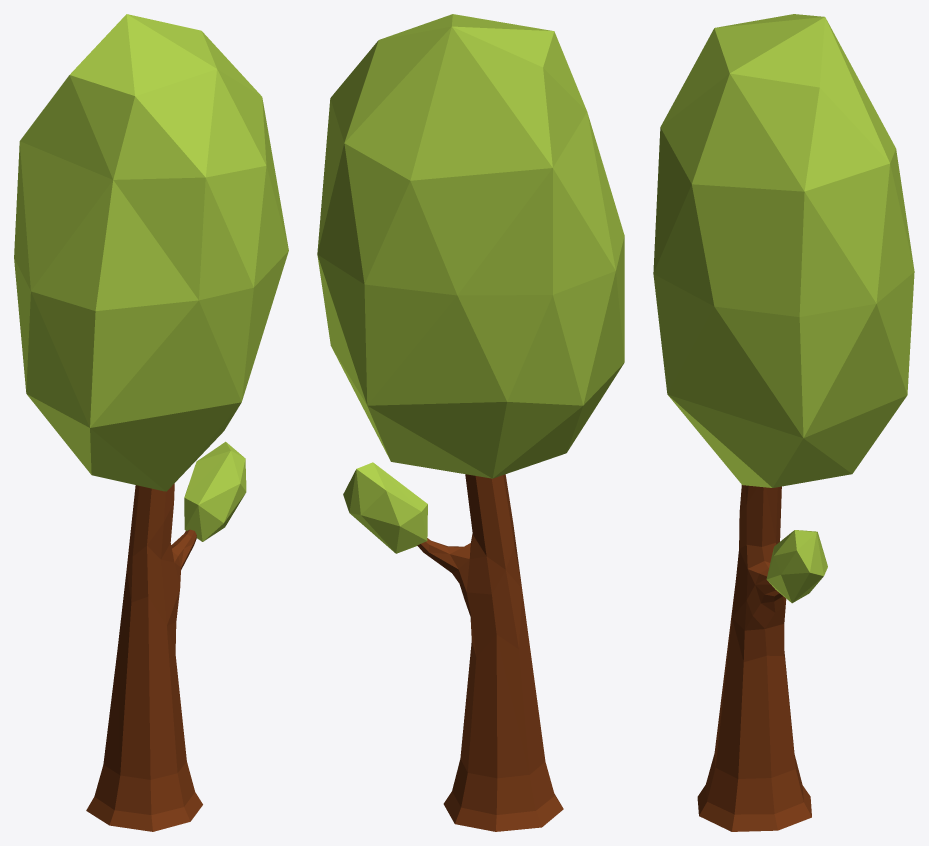
File: Albero 1.fbx
3 renders of one model, left to right at view 1: azimuth 30°, elevation 25°; view 2: azimuth 150°, elevation 25°; view 3: azimuth 270°, elevation 25°, orthographic. The views are drawn at different scales.
Parts seen in each view (by area): view 1: Icosphere; view 2: Icosphere; view 3: Icosphere.
Part boxes in pixels (<box>): Icosphere: <box>14,14,288,831</box>; Icosphere: <box>317,14,624,831</box>; Icosphere: <box>653,14,914,831</box>.
Size of the model in its own units: 85.86 by 246 by 72.68.
